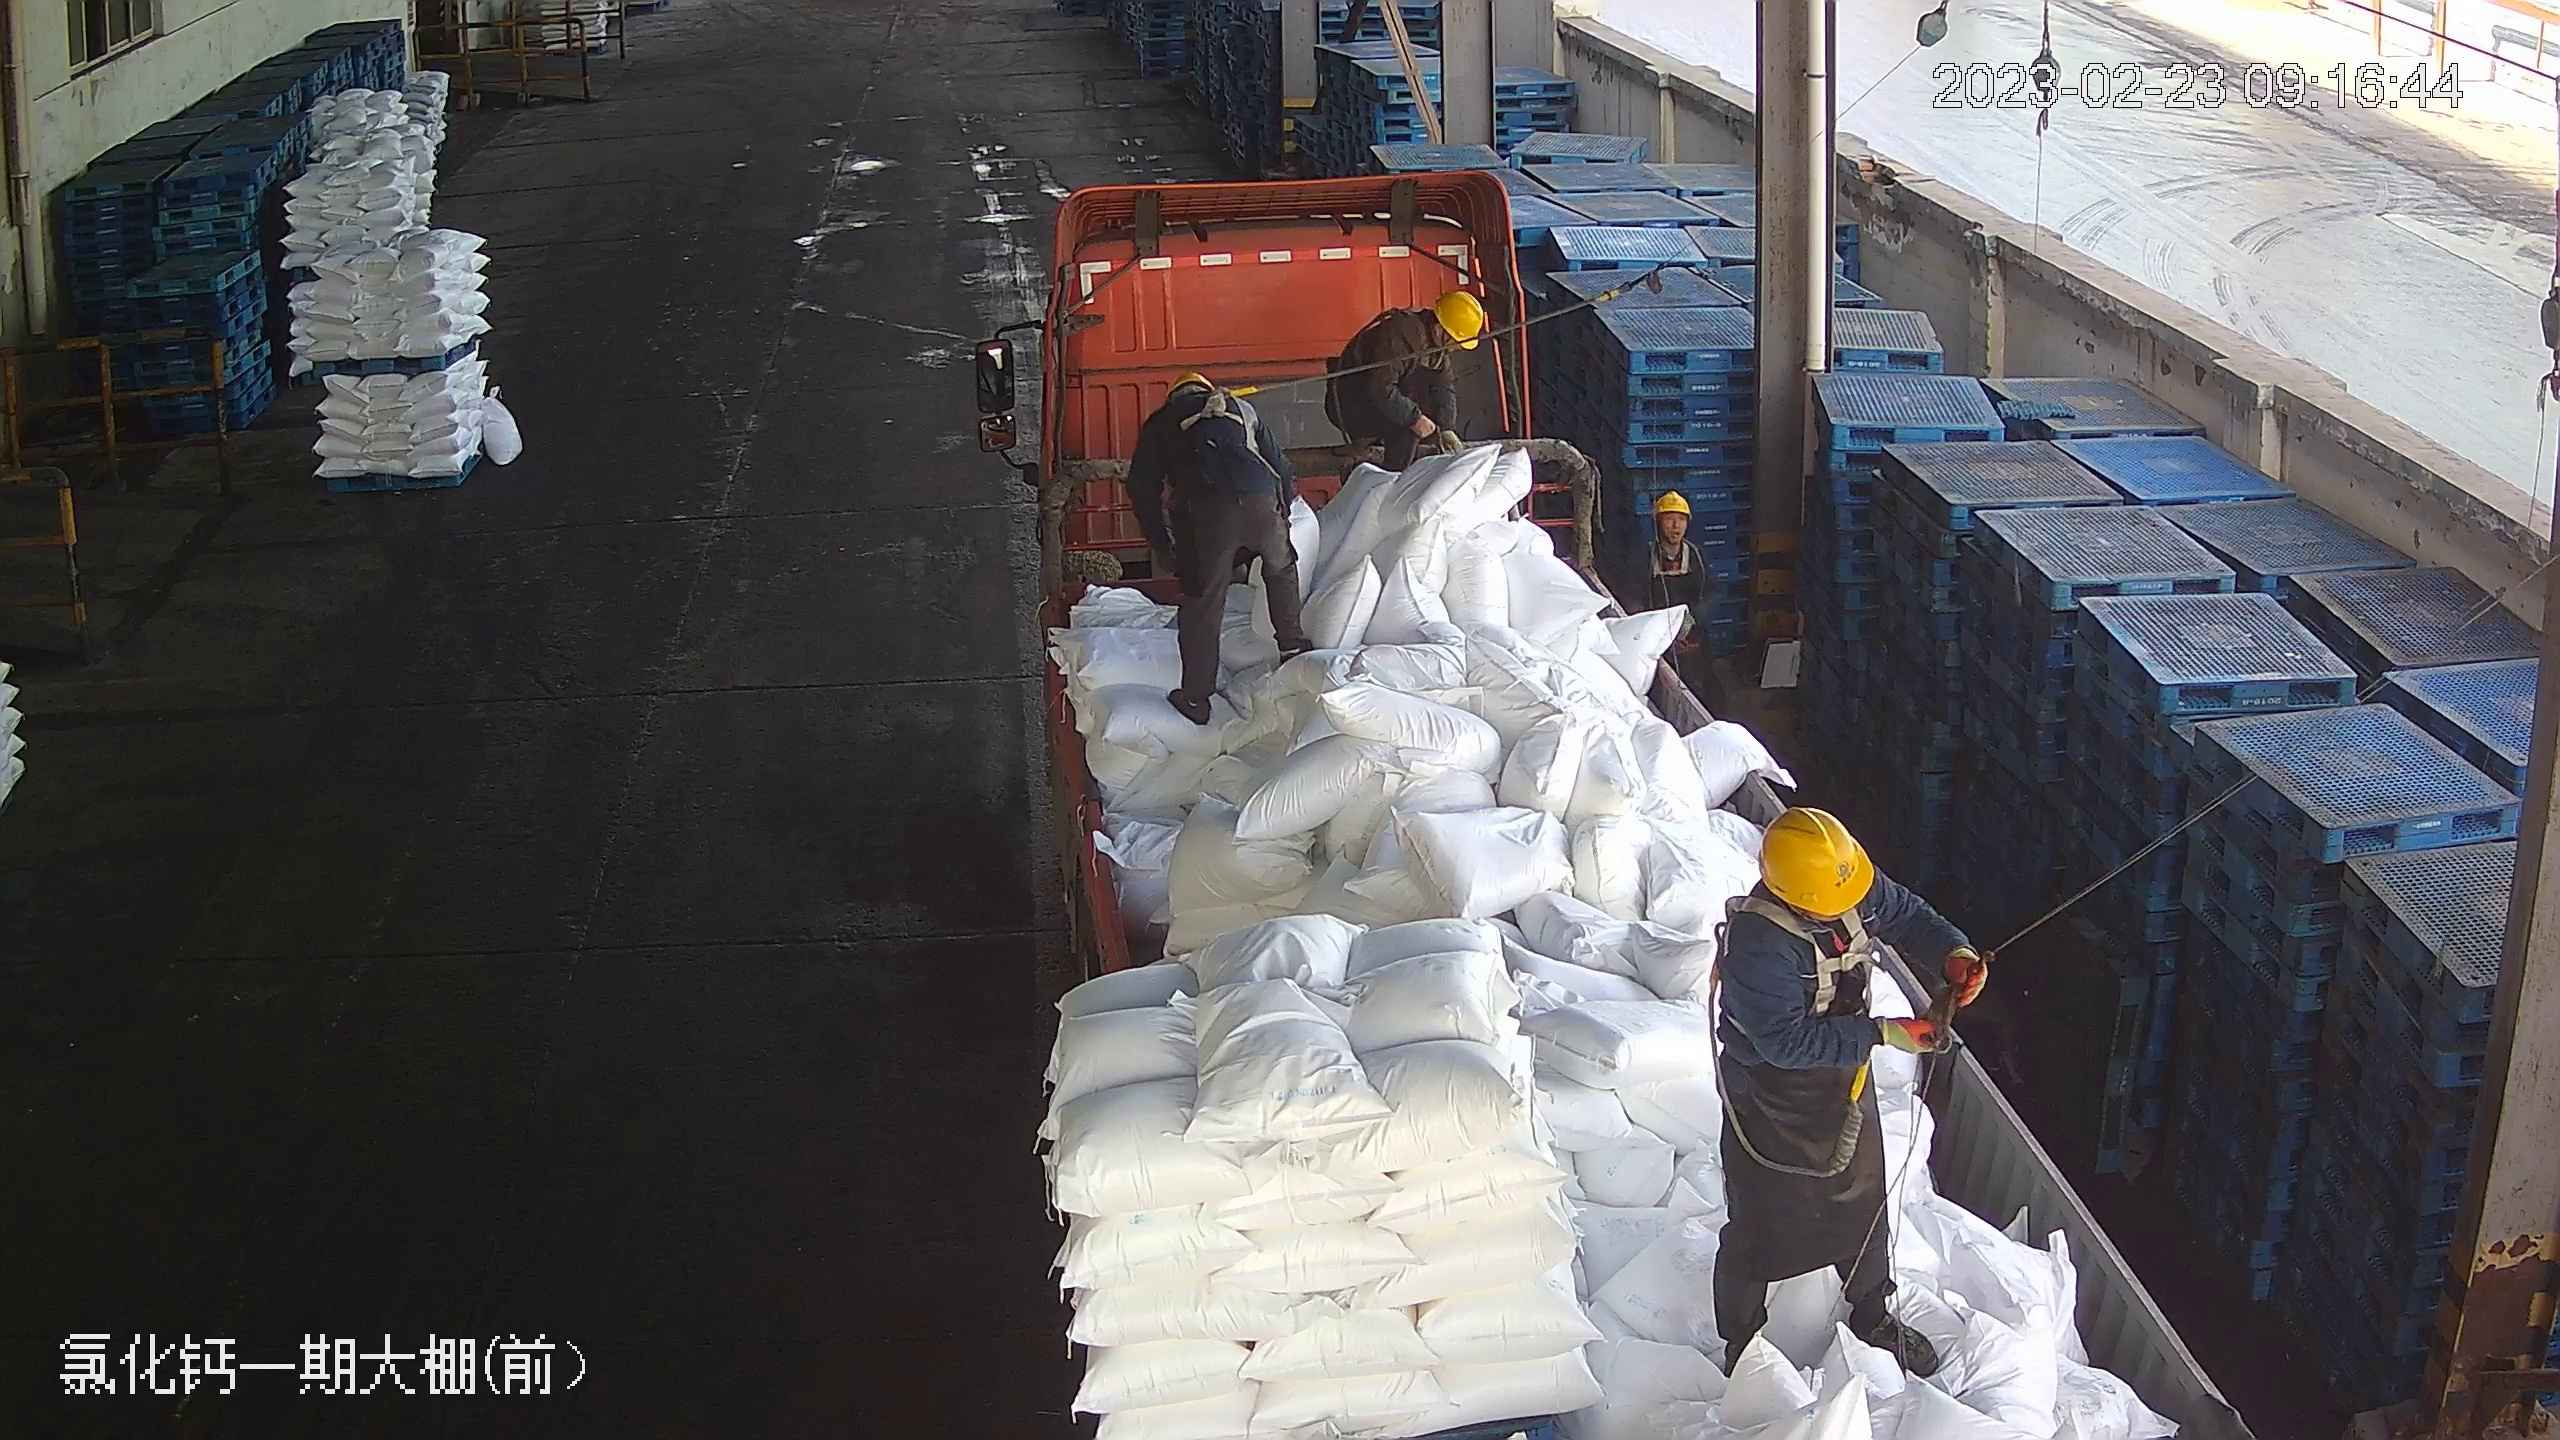belt: (1762, 919, 1885, 1032), (1374, 299, 1451, 376), (1178, 386, 1260, 443), (1642, 533, 1694, 573)
head: (1722, 802, 1894, 985), (1392, 290, 1492, 370), (1160, 368, 1259, 437), (1636, 487, 1706, 575), (1646, 486, 1697, 536)
helmet: (1725, 804, 1890, 984), (1755, 803, 1873, 909), (1432, 287, 1490, 345), (1650, 486, 1694, 517)
people: (1712, 809, 1975, 1376), (1125, 365, 1317, 728), (1321, 290, 1496, 488)
truck: (991, 161, 2255, 1431)
